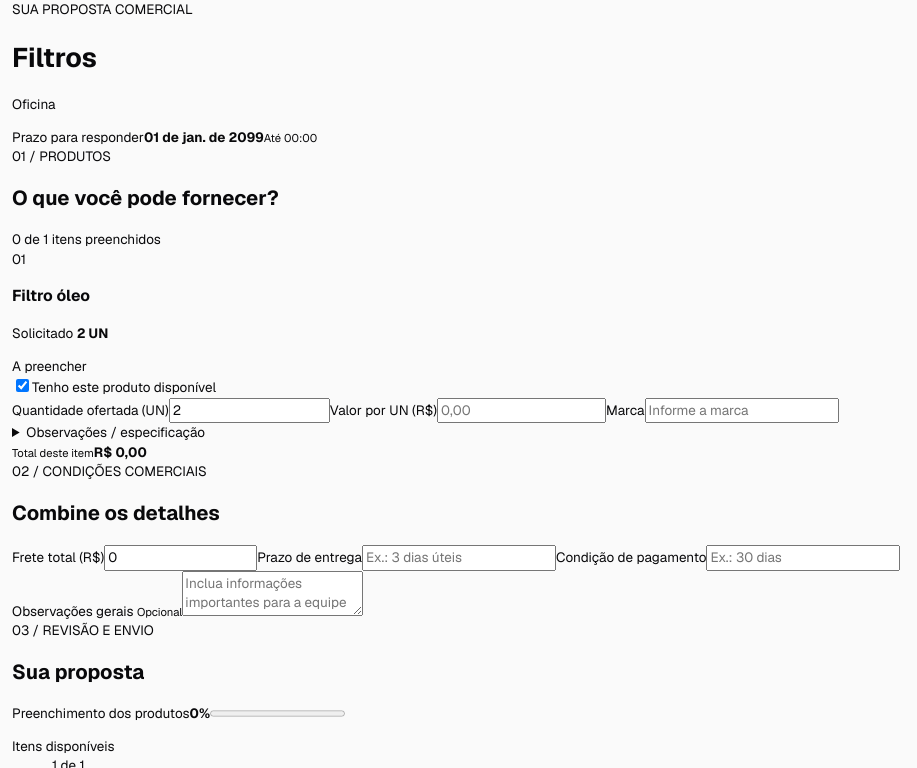
Test case: comparação de compras › fornecedor responde somente os produtos do link e recebe confirmação
Expected: the heading "Filtro óleo" is shown, [12,285,90,306]
Type "Marca A" into the field labelled "Marca" at (742, 411), box [645,398,839,423]
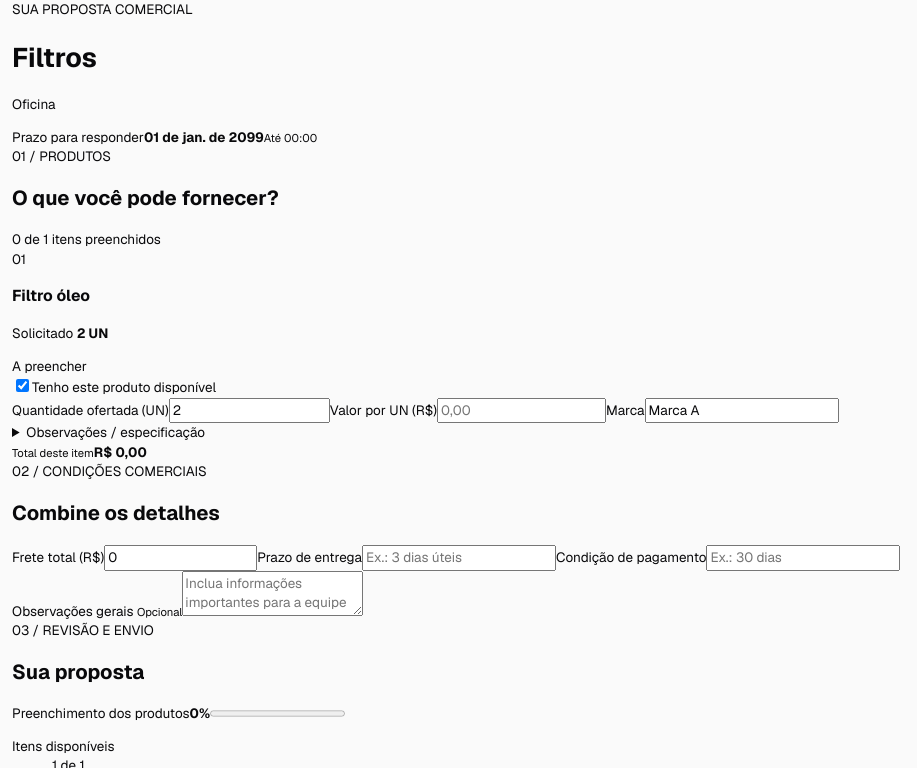
Type "20" into the number field labelled "Valor por UN (R$)" at (522, 411), box [437,398,606,423]
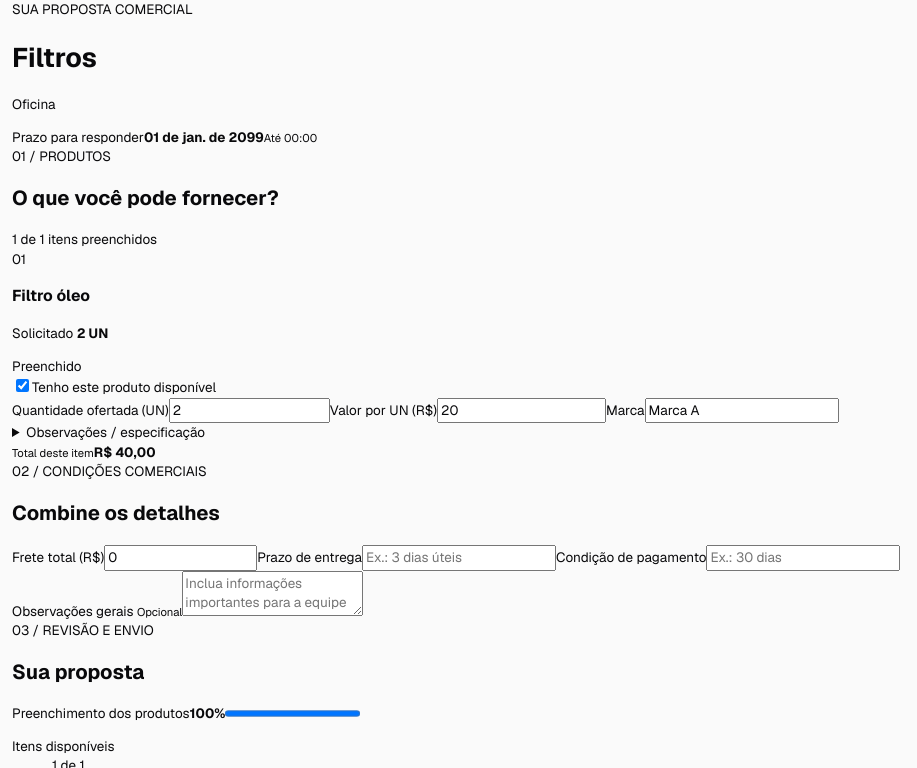
Type "2 dias" into the field labelled "Prazo de entrega" at (459, 558), box [362,545,556,571]
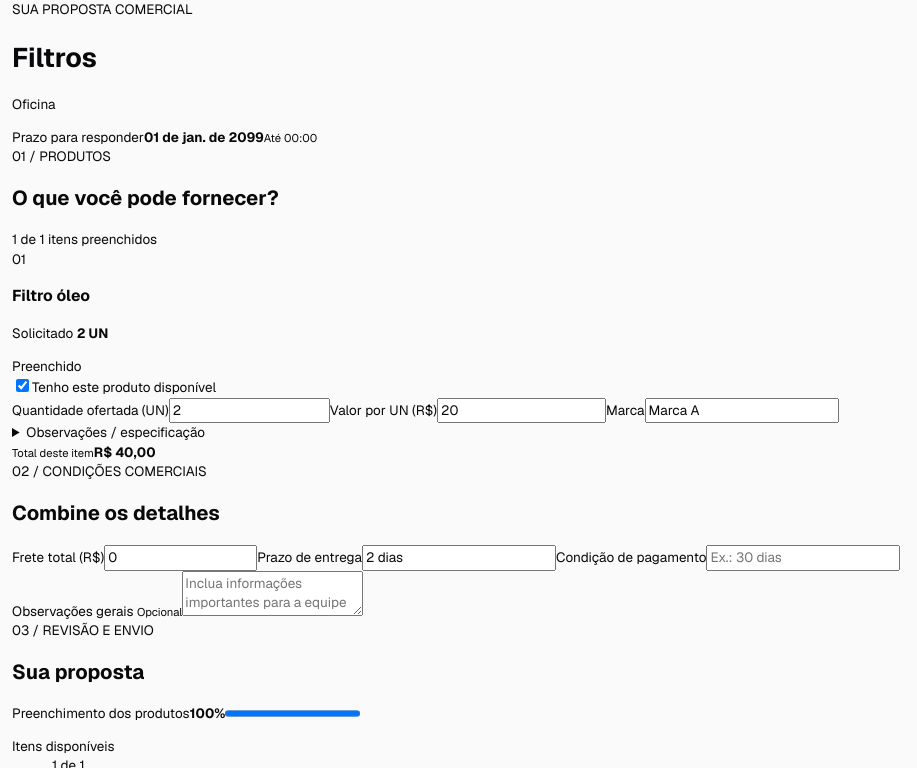
Type "À vista" into the field labelled "Condição de pagamento" at (804, 558), box [706,545,900,571]
(page scrolled)
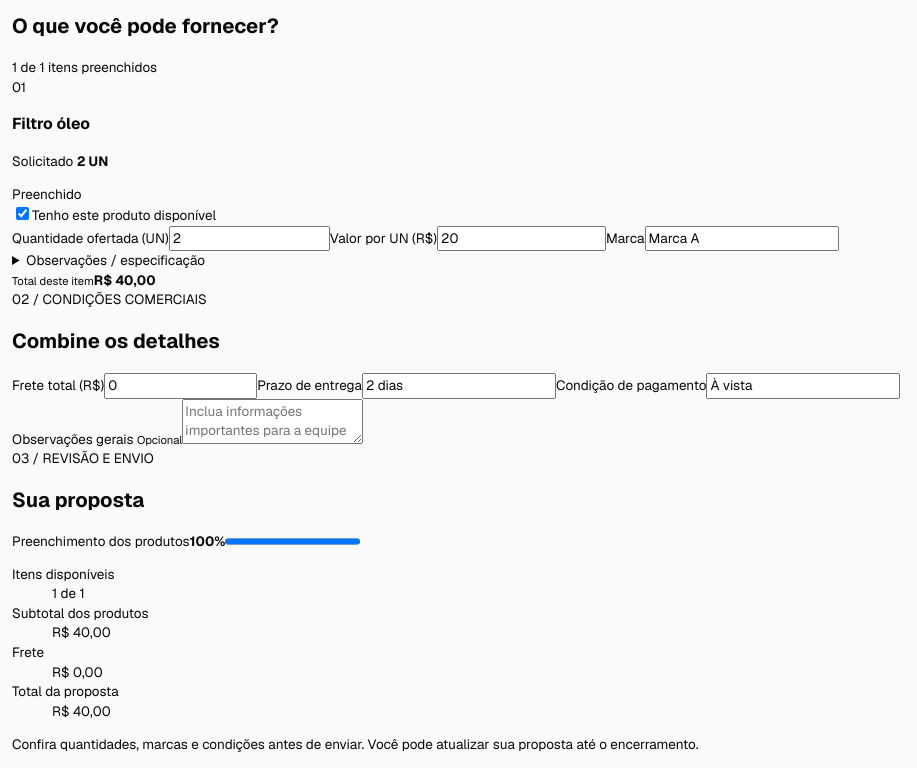
Submit the text "Enviar proposta"
(page scrolled)
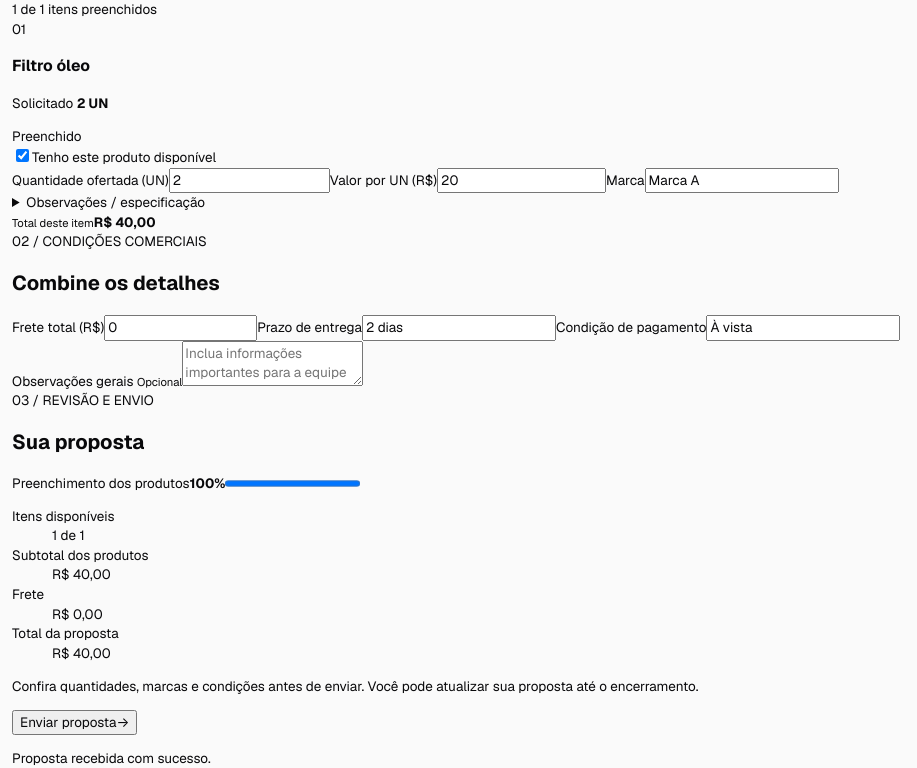
Expected: the message shows "recebida", [12,749,211,767]
